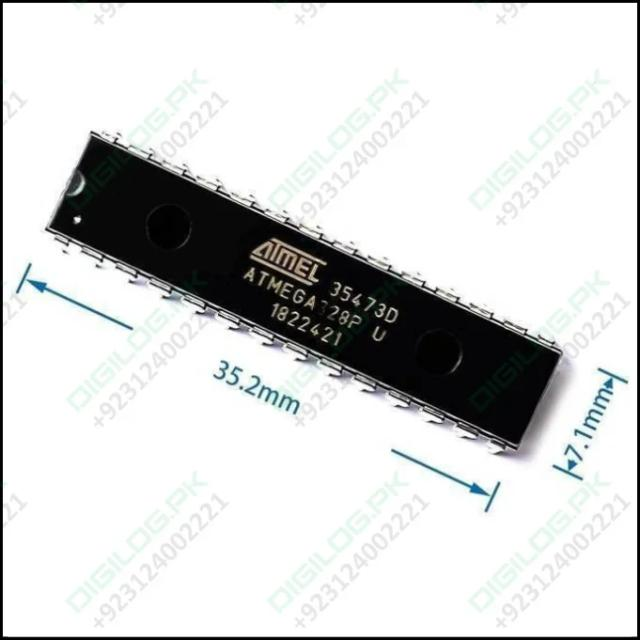atmega: (40, 126, 568, 459)
